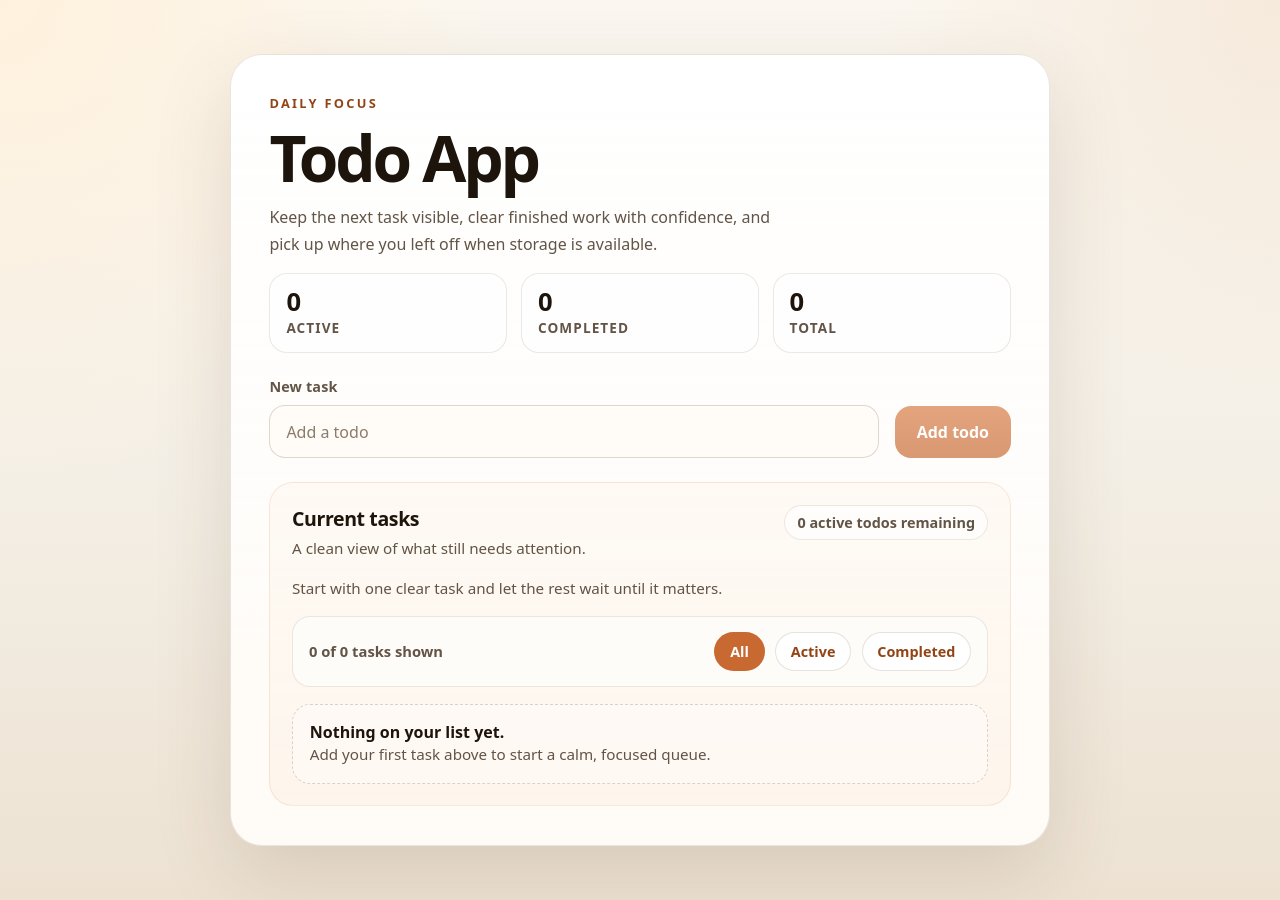
Test case: HomePage › adds a new todo from the composer and shows it in the list
The image size is (1280, 900).
Expected: the element that starts with "Daily focus" is shown, 230,54 -> 1050,846
Expected: the heading "Todo App" is shown, 269,114 -> 538,201
Type "Buy milk" into the field labelled "New task".
click(574, 432); type("Buy milk")  # box 269,405 -> 879,458
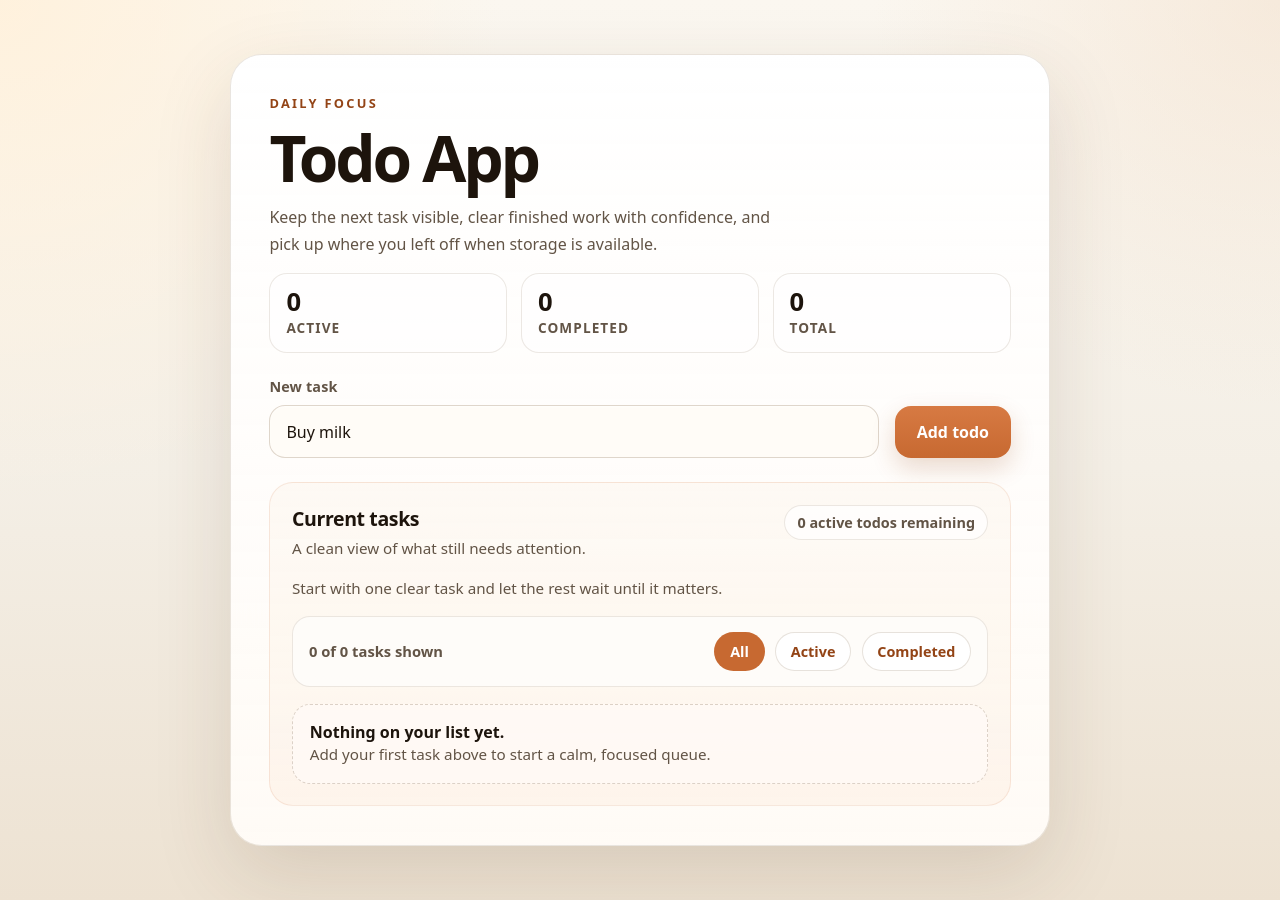
Click the button "Add todo".
click(953, 432)  # box 895,406 -> 1011,458
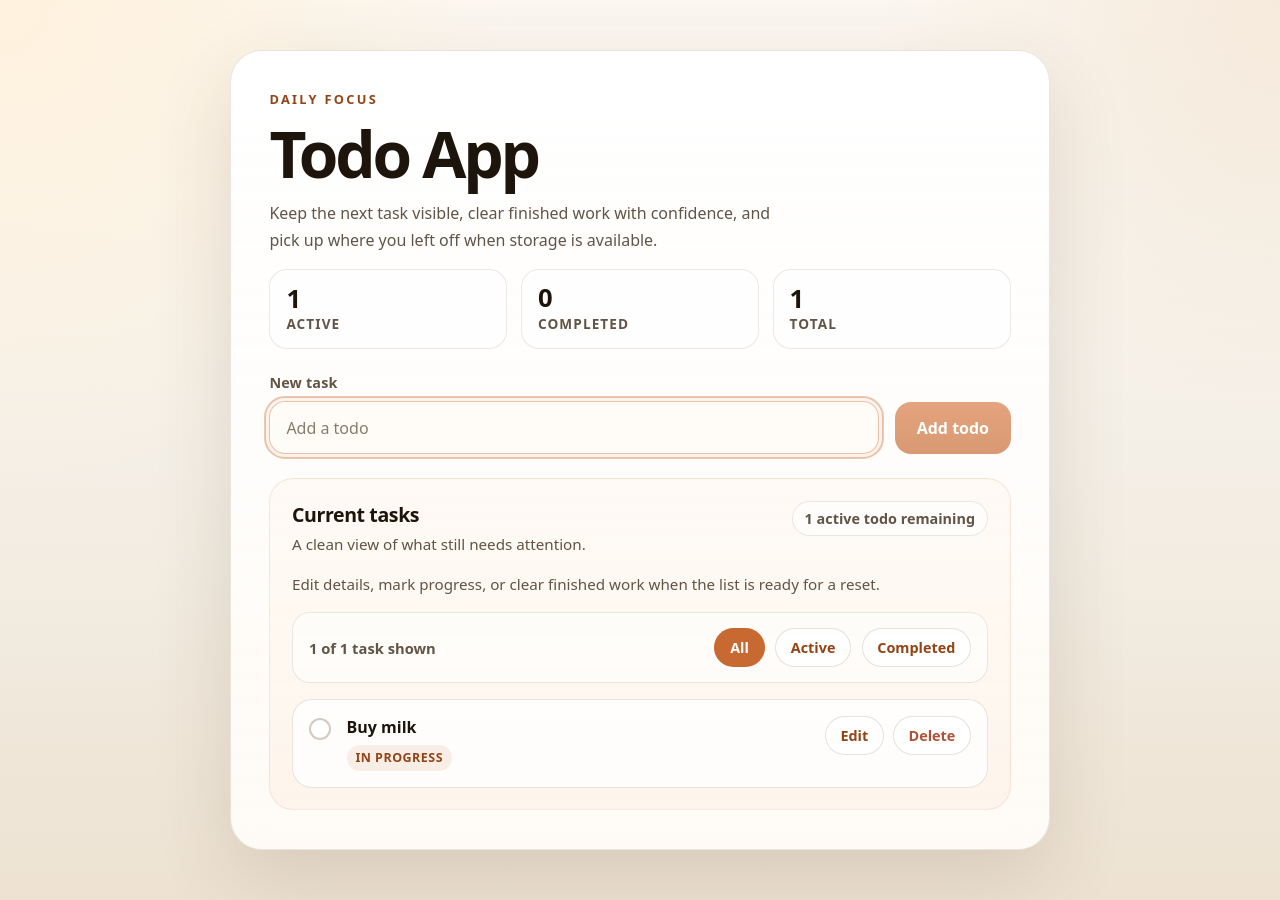
Expected: the list named "Current todos" is shown, 292,699 -> 988,788
Expected: the text "Buy milk" is shown, 347,716 -> 416,738
Expected: the checkbox named "Toggle completion for Buy milk" is shown, 309,718 -> 331,740
